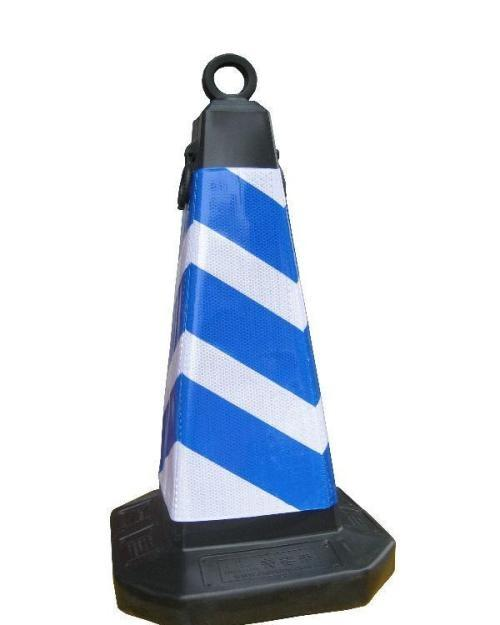cone_barrel: (138, 47, 348, 550)
